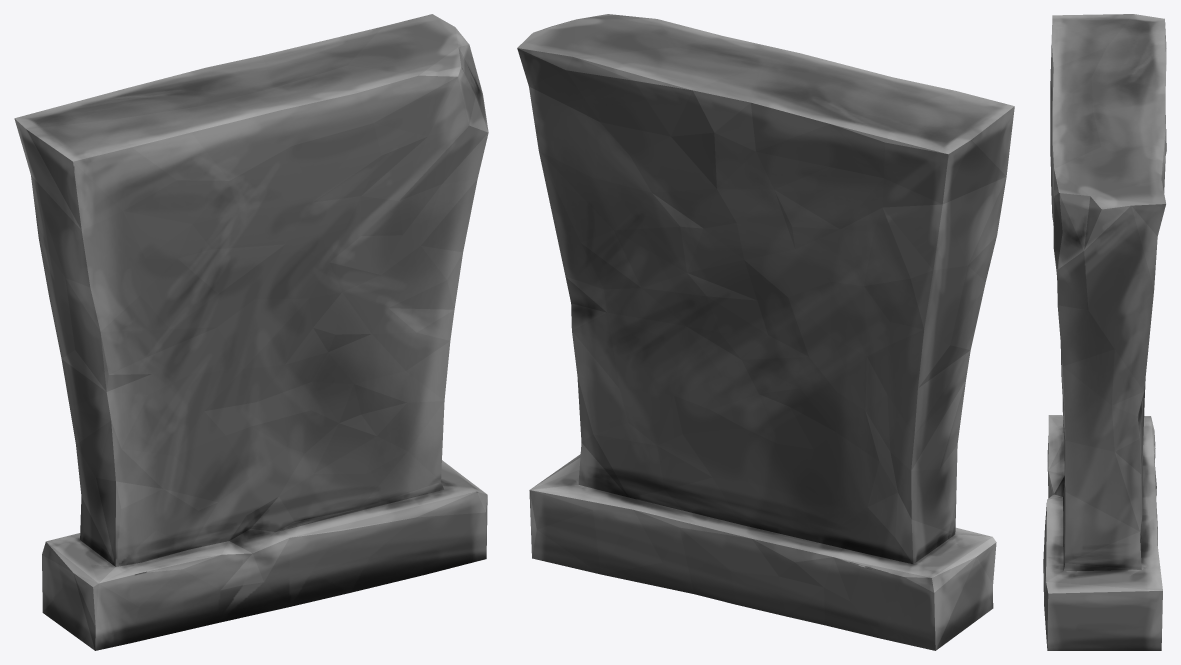
Rendered from gravestone01_a.fbx.
3 renders of one model, left to right at view 1: azimuth 30°, elevation 25°; view 2: azimuth 150°, elevation 25°; view 3: azimuth 270°, elevation 25°, orthographic. The views are drawn at different scales.
Parts seen in each view (by area): view 1: Gravestone01_lp_A; view 2: Gravestone01_lp_A; view 3: Gravestone01_lp_A.
Boxes of the visible parts, x1=… form: Gravestone01_lp_A: x1=14, y1=14, x2=488, y2=650; Gravestone01_lp_A: x1=517, y1=14, x2=1014, y2=650; Gravestone01_lp_A: x1=1043, y1=14, x2=1166, y2=650.
Size of the model in its own units: 1.17 by 0.3177 by 1.3.
